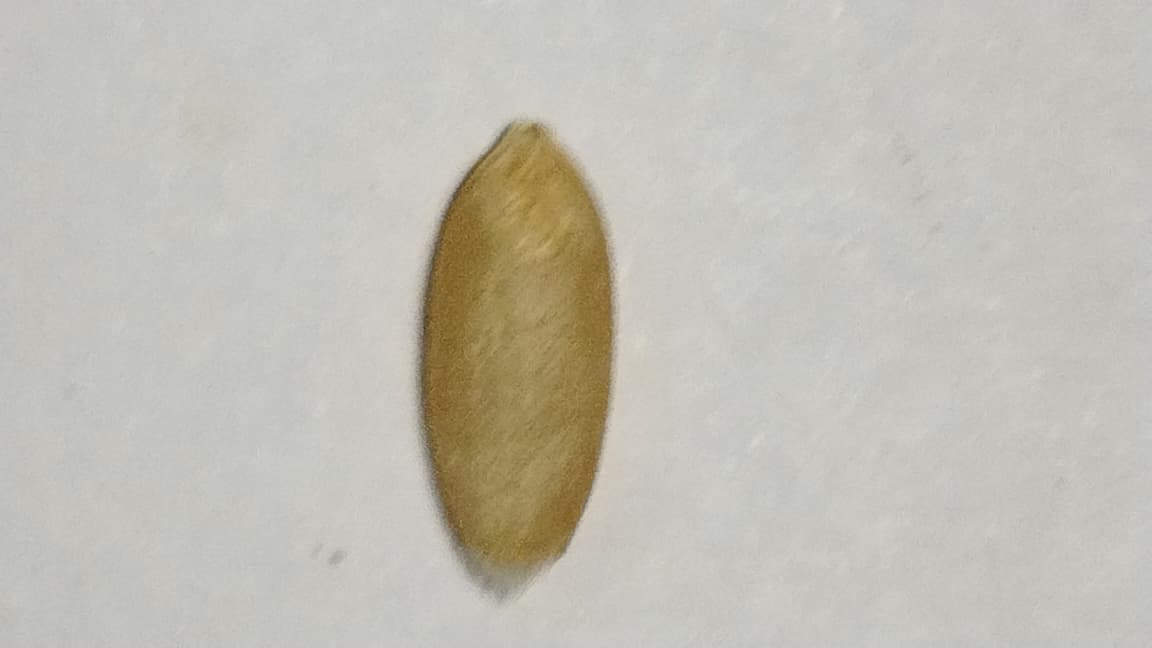healthy: (423, 120, 616, 590)
